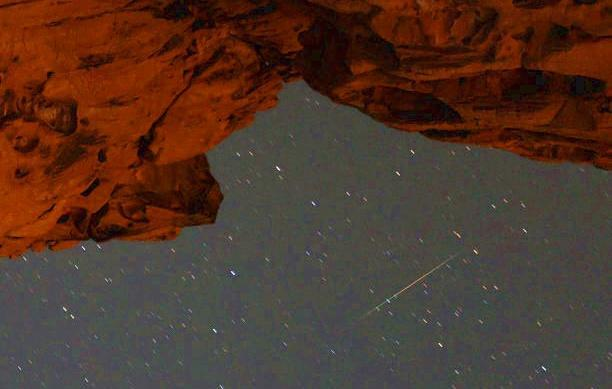meteorite: (363, 252, 456, 331)
